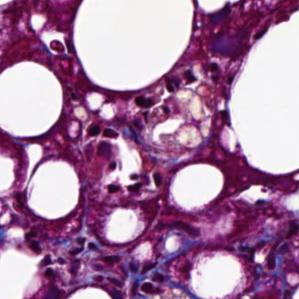inflammation: (70, 113, 121, 165), (155, 65, 214, 104)
